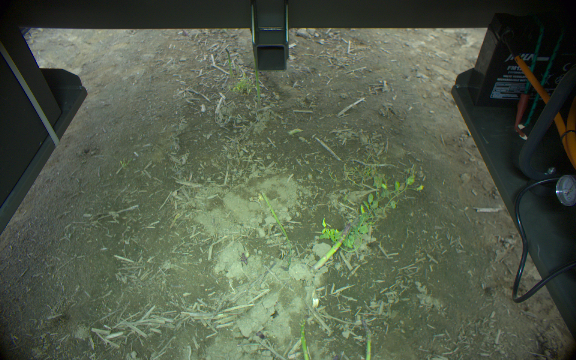aspa: (311, 216, 358, 273), (259, 190, 292, 254), (249, 50, 262, 109), (297, 316, 312, 360), (361, 318, 374, 360), (224, 47, 234, 83)
